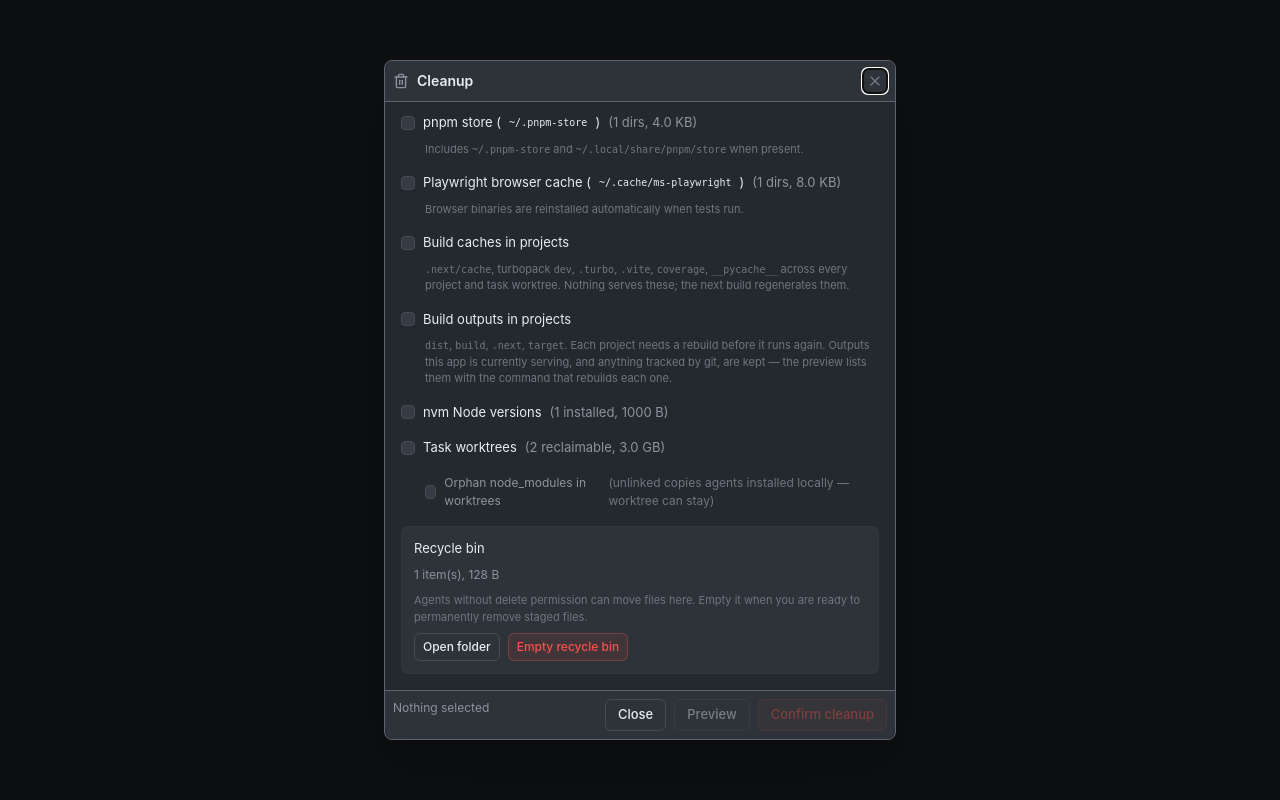
Test: CleanupDialog › worktree categories › shows a GB-scale total for the selected worktrees rather than a bare count
(page scrolled)
Click the checkbox with test id "cleanup-worktrees-checkbox".
click(408, 448)  # box [401,441,415,455]
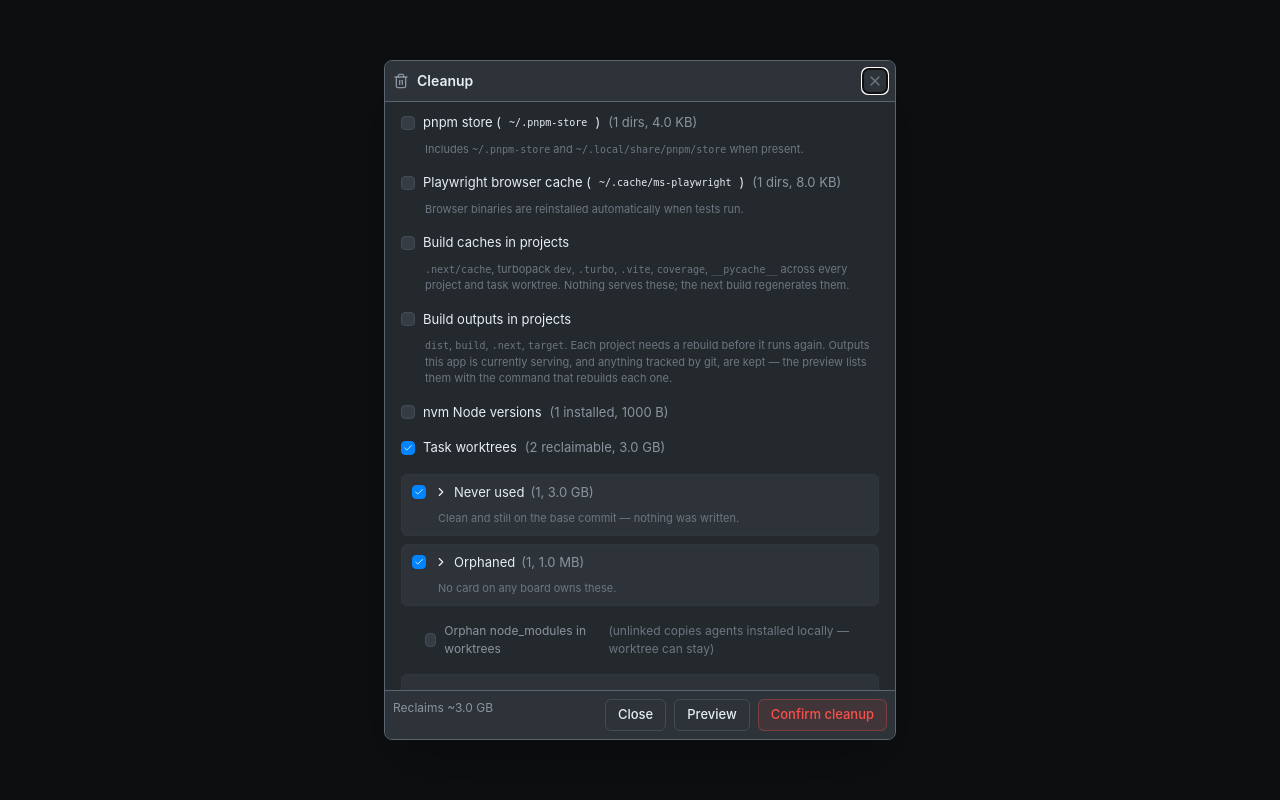
Expected: the text with test id "cleanup-total-estimate" shows "3.0 GB", [393,700,493,715]
